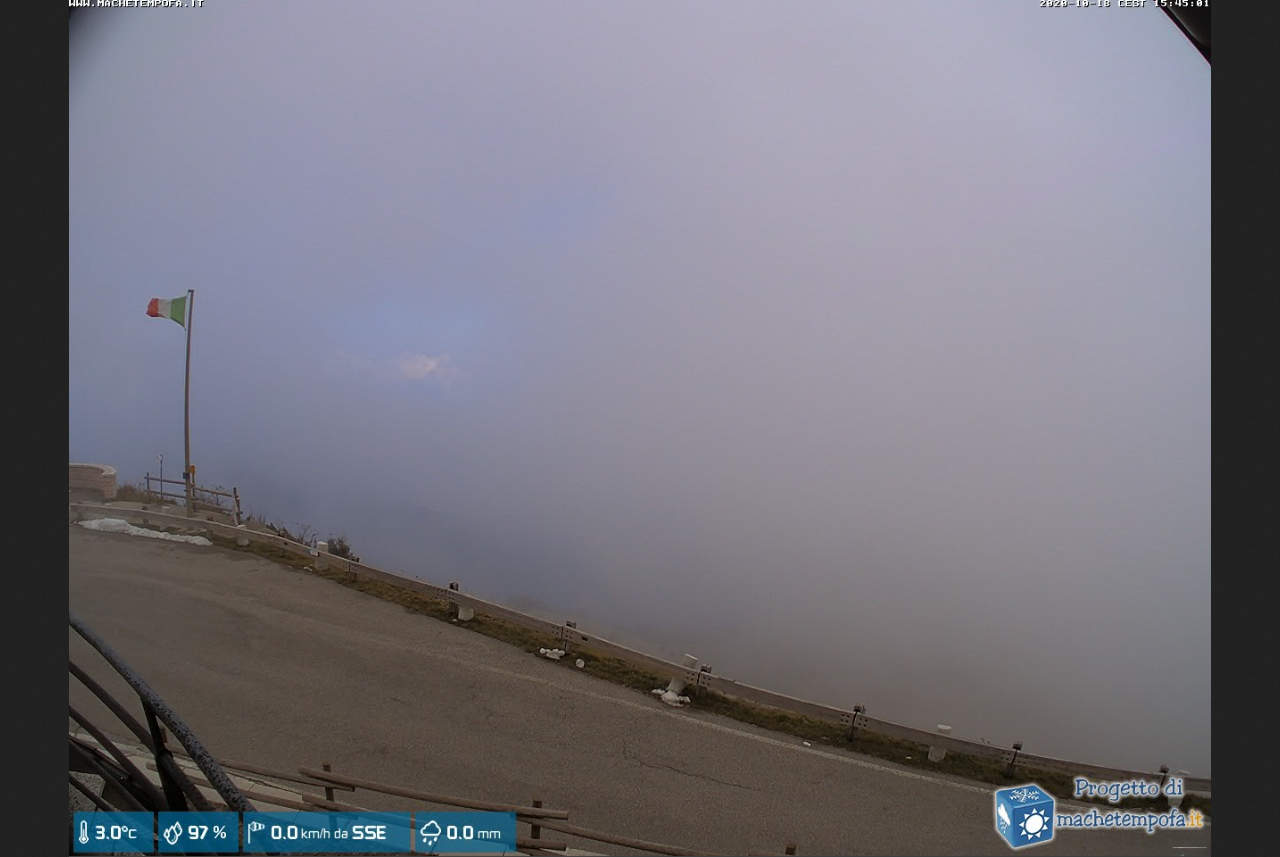yes: (141, 287, 196, 332)
